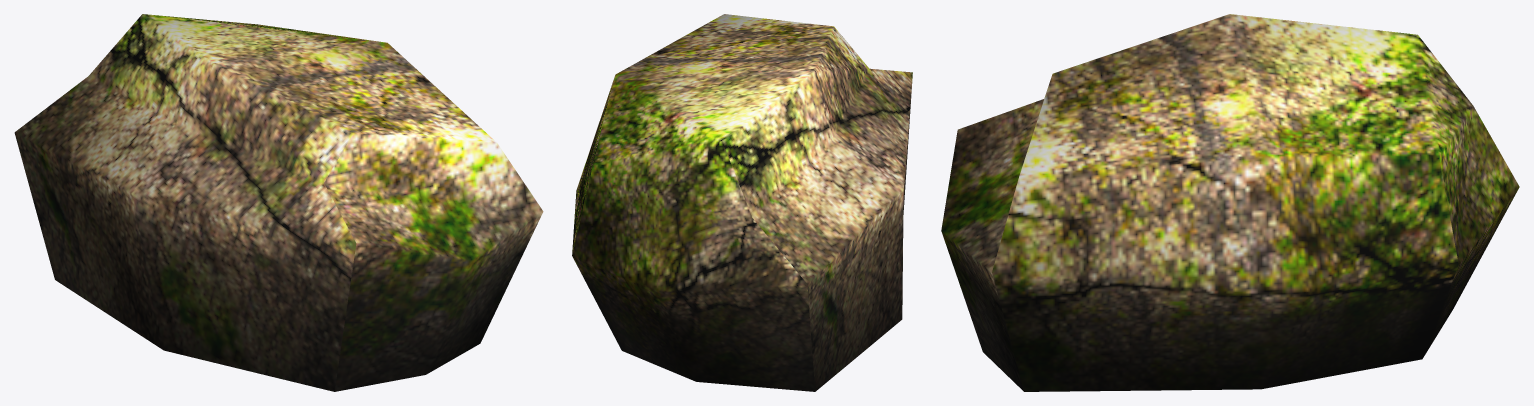
File: rock_012.obj
3 renders of one model, left to right at view 1: azimuth 30°, elevation 25°; view 2: azimuth 150°, elevation 25°; view 3: azimuth 270°, elevation 25°, orthographic. The views are drawn at different scales.
Parts seen in each view (by area): view 1: rock_012; view 2: rock_012; view 3: rock_012.
Boxes of the visible parts, bbox=[...] form: rock_012: bbox=[14, 14, 543, 391]; rock_012: bbox=[572, 14, 912, 391]; rock_012: bbox=[941, 14, 1519, 391].
Bounding box in the file's own units: 156 × 118 × 219.
1 material, 1 textured.
